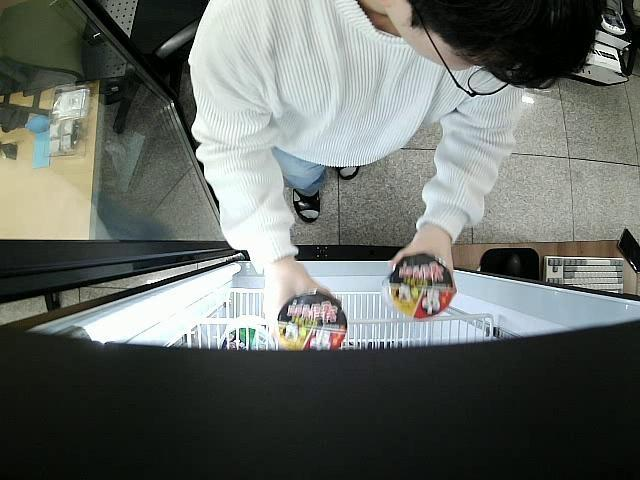08_buldak_S: (388, 256, 455, 318), (278, 294, 346, 350)
